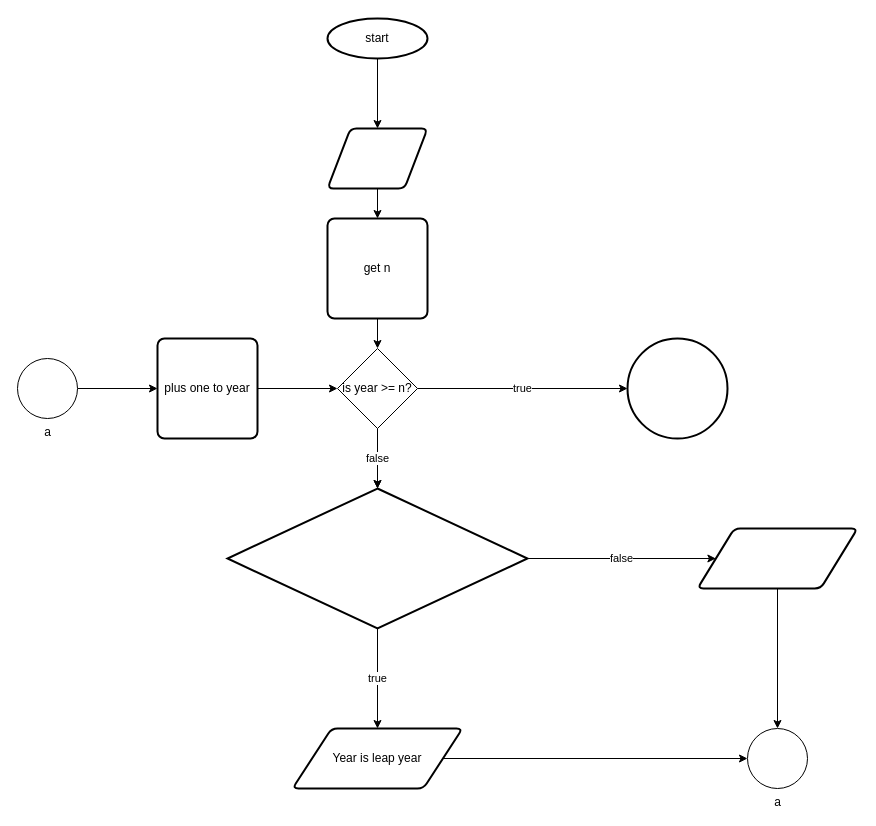
Image size: 876x826. Some labels were removed from this diagram. The shapes that lost their labels are listed below. From the top down, each one's centre as x and y in pixels, then its label:
At (377,158): "year = 1".
At (677,388): "end".
At (377,558): "is year divisible by 400 or (divisible by 4 and not divisible by 100) ?".
At (777,558): "Year is not leap year".
